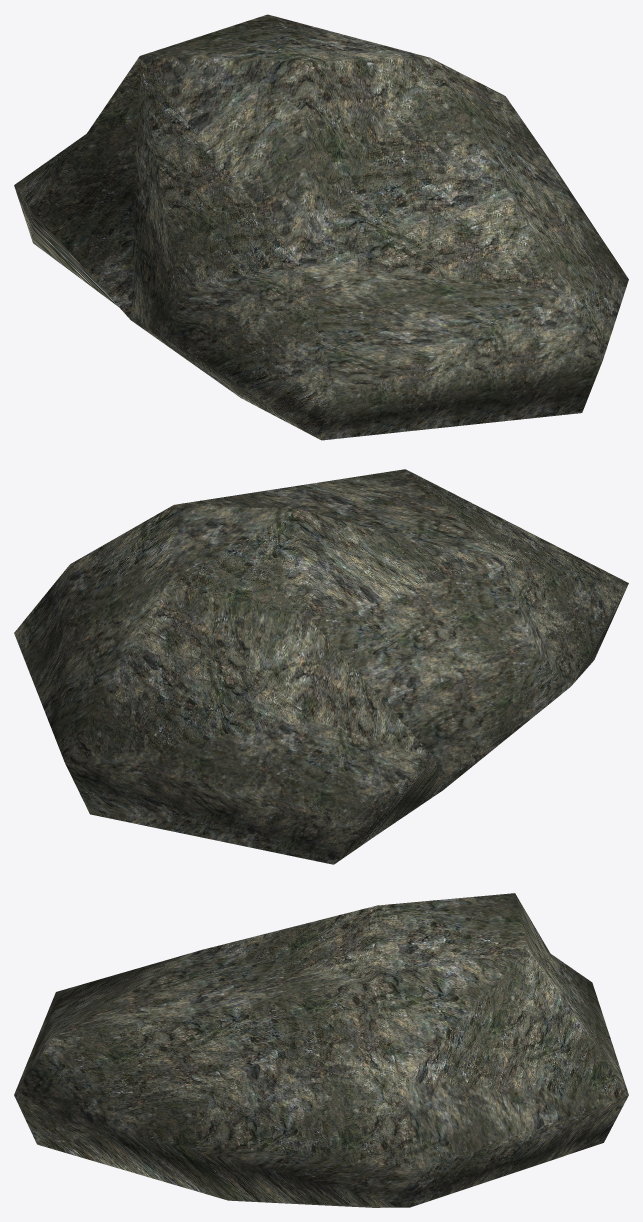
Rendered from mtns_rock_grey_a11_l1.fbx.
3 renders of one model, top to bottom at view 1: azimuth 30°, elevation 25°; view 2: azimuth 150°, elevation 25°; view 3: azimuth 270°, elevation 25°, orthographic. The views are drawn at different scales.
Visible parts, largest first — view 1: mesh_node; view 2: mesh_node; view 3: mesh_node.
Part boxes in pixels (left/top/right/bottom): mesh_node: left=14, top=14, right=628, bottom=440; mesh_node: left=14, top=469, right=628, bottom=864; mesh_node: left=14, top=893, right=628, bottom=1207.
Size of the model in its own units: 1.68 by 0.9647 by 2.18.
1 material, 1 textured.
